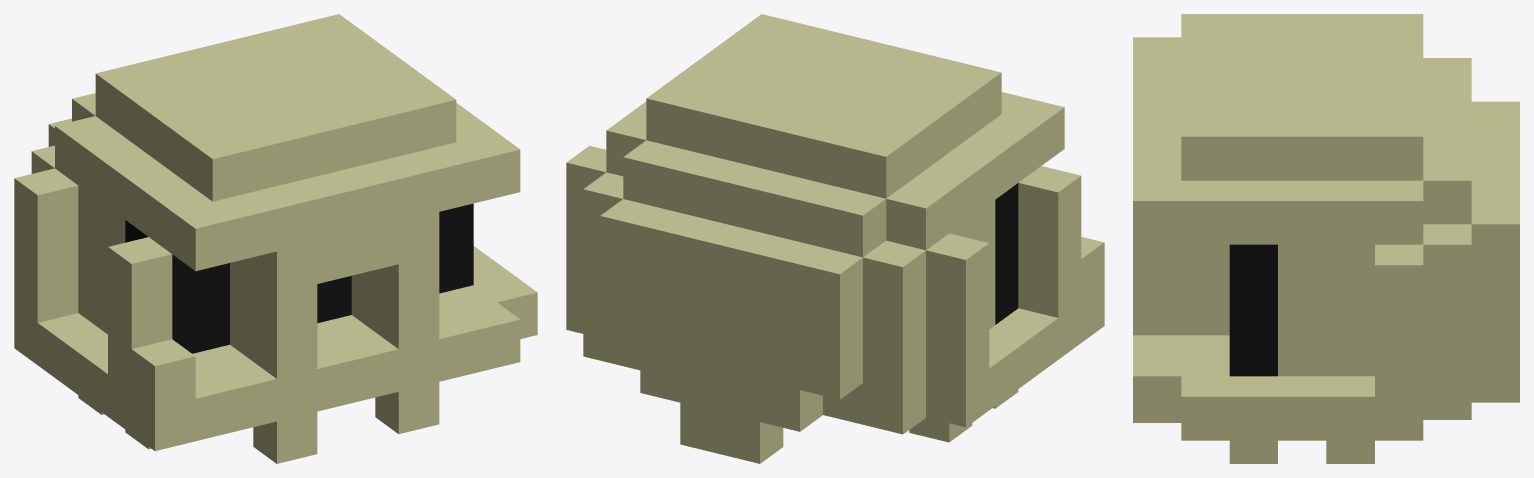
The model's file is ossos-5.obj.
The picture shows the model from 3 angles, left to right: view 1: azimuth 30°, elevation 25°; view 2: azimuth 150°, elevation 25°; view 3: azimuth 270°, elevation 25°; orthographic projection. The views are drawn at different scales.
Bounding box in the file's own units: 1 × 0.7 × 0.8.
1 material, 1 textured.
